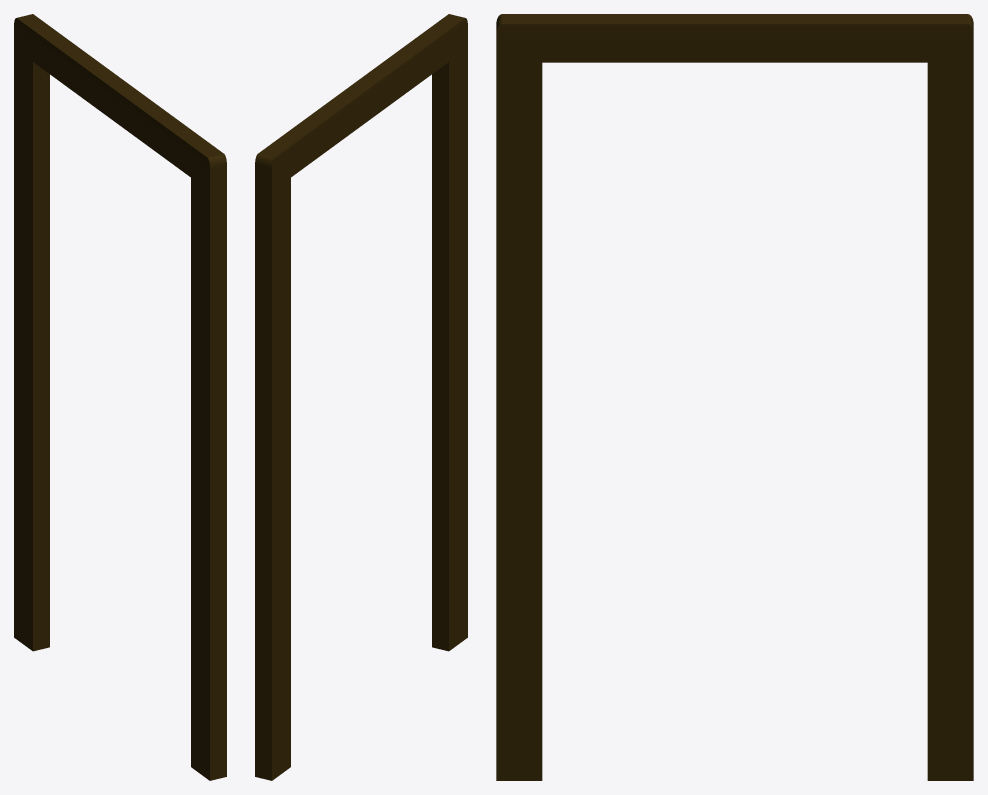
The model's file is DoorFrame.fbx.
3 views of the same model, side by side, from view 1: azimuth 30°, elevation 25°; view 2: azimuth 150°, elevation 25°; view 3: azimuth 270°, elevation 25° (orthographic). The views are drawn at different scales.
Visible parts, largest first — view 1: DoorFrame; view 2: DoorFrame; view 3: DoorFrame.
Part boxes in pixels (x1=…): DoorFrame: x1=14, y1=14, x2=226, y2=780; DoorFrame: x1=255, y1=14, x2=467, y2=780; DoorFrame: x1=496, y1=14, x2=973, y2=780.
Size of the model in its own units: 80 by 2800 by 1600.
